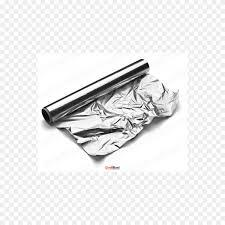metal: (42, 57, 181, 159)
